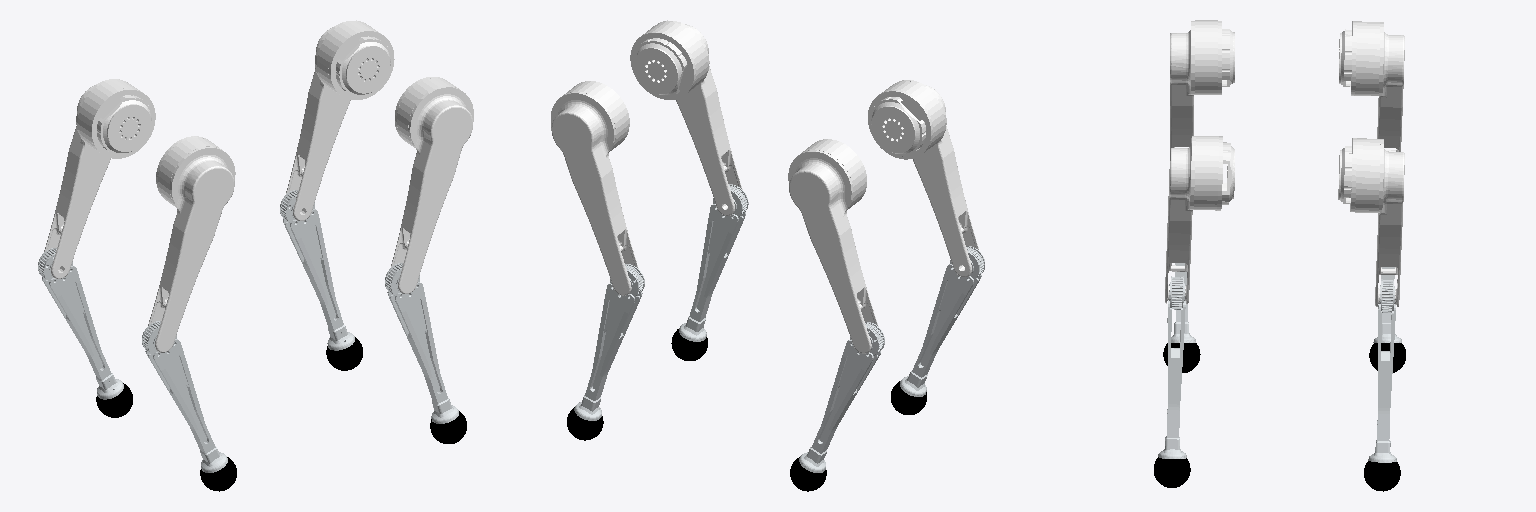
URDF robot description (xt_dog):
<?xml version="1.0" encoding="utf-8"?>
<!-- This URDF was automatically created by SolidWorks to URDF Exporter! Originally created by [author] ([email redacted]) 
     Commit Version: 1.6.0-4-g7f85cfe  Build Version: 1.6.7995.38578
     For more information, please see http://wiki.ros.org/sw_urdf_exporter -->
<robot
  name="xt_dog">
  <link
    name="base">
    <inertial>
      <origin
        xyz="-6.8387E-05 -0.00051279 0.062014"
        rpy="0 0 0" />
      <mass
        value="8.9114" />
      <inertia
        ixx="0.061528"
        ixy="6.16E-05"
        ixz="0.0002485"
        iyy="0.12748"
        iyz="7.84E-05"
        izz="0.15915" />
    </inertial>
    <visual>
      <origin
        xyz="0 0 0"
        rpy="0 0 0" />
      <geometry>
        <mesh
          filename="../meshes/base.STL" />
      </geometry>
      <material
        name="">
        <color
          rgba="0.89804 0.91765 0.92941 1" />
      </material>
    </visual>
    <collision>
      <origin
        xyz="0 0 0"
        rpy="0 0 0" />
      <geometry>
        <mesh
          filename="../meshes/base.STL" />
      </geometry>
    </collision>
  </link>
  <link
    name="FL_hip">
    <inertial>
      <origin
        xyz="-0.009071 -0.00066921 0.0030017"
        rpy="0 0 0" />
      <mass
        value="1.7307" />
      <inertia
        ixx="0.0022205"
        ixy="6.23E-05"
        ixz="-1.38E-05"
        iyy="0.0039266"
        iyz="-3.12E-05"
        izz="0.002753" />
    </inertial>
    <visual>
      <origin
        xyz="0 0 0"
        rpy="0 0 0" />
      <geometry>
        <mesh
          filename="../meshes/FL_hip.STL" />
      </geometry>
      <material
        name="">
        <color
          rgba="0.61176 0.65882 0.67059 1" />
      </material>
    </visual>
    <collision>
      <origin
        xyz="0 0 0"
        rpy="0 0 0" />
      <geometry>
        <mesh
          filename="../meshes/FL_hip.STL" />
      </geometry>
    </collision>
  </link>
  <joint
    name="FL_hip_joint"
    type="revolute">
    <origin
      xyz="0.22493 0.062028 0.058665"
      rpy="0 0 0" />
    <parent
      link="base" />
    <child
      link="FL_hip" />
    <axis
      xyz="1 0 0" />
    <limit
      lower="-0.7854 "
      upper="0.7854"
      effort="40"
      velocity="20" />
  </joint>
  <link
    name="FL_thigh">
    <inertial>
      <origin
        xyz="-0.0064856 0.0035106 -0.018791"
        rpy="0 0 0" />
      <mass
        value="2.5793" />
      <inertia
        ixx="0.010577"
        ixy="0.0005158"
        ixz="-0.0024329"
        iyy="0.01186"
        iyz="0.0014743"
        izz="0.0044128" />
    </inertial>
    <visual>
      <origin
        xyz="0 0 0"
        rpy="0 0 0" />
      <geometry>
        <mesh
          filename="../meshes/FL_thigh.STL" />
      </geometry>
      <material
        name="">
        <color
          rgba="1 1 1 1" />
      </material>
    </visual>
    <collision>
      <origin
        xyz="0 0 0"
        rpy="0 0 0" />
      <geometry>
        <mesh
          filename="../meshes/FL_thigh.STL" />
      </geometry>
    </collision>
  </link>
  <joint
    name="FL_thigh_joint"
    type="revolute">
    <origin
      xyz="-0.0009767 0.068078 0.0016177"
      rpy="0 0 0" />
    <parent
      link="FL_hip" />
    <child
      link="FL_thigh" />
    <axis
      xyz="0 1 0" />
    <limit
       lower="-1.8326"
      upper="1.8326"
      effort="40"
      velocity="20" />
  </joint>
  <link
    name="FL_calf">
    <inertial>
      <origin
        xyz="0.031152 -0.0031243 -0.10209"
        rpy="0 0 0" />
      <mass
        value="0.3664" />
      <inertia
        ixx="0.0027904"
        ixy="2.46E-05"
        ixz="0.0008267"
        iyy="0.0030728"
        iyz="-8.15E-05"
        izz="0.0003331" />
    </inertial>
    <visual>
      <origin
        xyz="0 0 0"
        rpy="0 0 0" />
      <geometry>
        <mesh
          filename="../meshes/FL_calf.STL" />
      </geometry>
      <material
        name="">
        <color
          rgba="0.89804 0.91765 0.92941 1" />
      </material>
    </visual>
    <collision>
      <origin
        xyz="0 0 0"
        rpy="0 0 0" />
      <geometry>
        <mesh
          filename="../meshes/FL_calf.STL" />
      </geometry>
    </collision>
  </link>
  <joint
    name="FL_calf_joint"
    type="revolute">
    <origin
      xyz="-0.088525 0.031884 -0.25614"
      rpy="0 0 0" />
    <parent
      link="FL_thigh" />
    <child
      link="FL_calf" />
    <axis
      xyz="0 1 0" />
    <limit
      lower="-1.8326"
      upper="0.5236"
      effort="40"
      velocity="20" />
  </joint>
  <link
    name="FL_foot">
    <inertial>
      <origin
        xyz="0 -2.2204E-16 -1.1102E-16"
        rpy="0 0 0" />
      <mass
        value="0.1315" />
      <inertia
        ixx="4.73E-05"
        ixy="0"
        ixz="0"
        iyy="4.73E-05"
        iyz="0"
        izz="4.73E-05" />
    </inertial>
    <visual>
      <origin
        xyz="0 0 0"
        rpy="0 0 0" />
      <geometry>
        <mesh
          filename="../meshes/FL_foot.STL" />
      </geometry>
      <material
        name="">
        <color
          rgba="0 0 0 1" />
      </material>
    </visual>
    <collision>
      <origin
        xyz="0 0 0"
        rpy="0 0 0" />
      <geometry>
        <mesh
          filename="../meshes/FL_foot.STL" />
      </geometry>
    </collision>
  </link>
  <joint
    name="FL_foot_joint"
    type="fixed"
    dont_collapse="true">
    <origin
      xyz="0.084015 -0.0082942 -0.27535"
      rpy="0 0 0" />
    <parent
      link="FL_calf" />
    <child
      link="FL_foot" />
    <axis
      xyz="0 0 0" />
  </joint>
  <link
    name="FR_hip">
    <inertial>
      <origin
        xyz="-0.007193 0.00085492 0.002813"
        rpy="0 0 0" />
      <mass
        value="1.7307" />
      <inertia
        ixx="0.0022388"
        ixy="-6.88E-05"
        ixz="2.83E-05"
        iyy="0.003903"
        iyz="-2.88E-05"
        izz="0.0027126" />
    </inertial>
    <visual>
      <origin
        xyz="0 0 0"
        rpy="0 0 0" />
      <geometry>
        <mesh
          filename="../meshes/FR_hip.STL" />
      </geometry>
      <material
        name="">
        <color
          rgba="0.61176 0.65882 0.67059 1" />
      </material>
    </visual>
    <collision>
      <origin
        xyz="0 0 0"
        rpy="0 0 0" />
      <geometry>
        <mesh
          filename="../meshes/FR_hip.STL" />
      </geometry>
    </collision>
  </link>
  <joint
    name="FR_hip_joint"
    type="revolute">
    <origin
      xyz="0.2225 -0.062529 0.05888"
      rpy="0 0 0" />
    <parent
      link="base" />
    <child
      link="FR_hip" />
    <axis
      xyz="1 0 0" />
    <limit
    lower="-0.7854 "
      upper="0.7854"
      effort="40"
      velocity="20" />
  </joint>
  <link
    name="FR_thigh">
    <inertial>
      <origin
        xyz="-0.0063846 -0.004616 -0.018585"
        rpy="0 0 0" />
      <mass
        value="2.5793" />
      <inertia
        ixx="0.010622"
        ixy="-0.0006479"
        ixz="-0.0023408"
        iyy="0.01166"
        iyz="-0.0019079"
        izz="0.004568" />
    </inertial>
    <visual>
      <origin
        xyz="0 0 0"
        rpy="0 0 0" />
      <geometry>
        <mesh
          filename="../meshes/FR_thigh.STL" />
      </geometry>
      <material
        name="">
        <color
          rgba="1 1 1 1" />
      </material>
    </visual>
    <collision>
      <origin
        xyz="0 0 0"
        rpy="0 0 0" />
      <geometry>
        <mesh
          filename="../meshes/FR_thigh.STL" />
      </geometry>
    </collision>
  </link>
  <joint
    name="FR_thigh_joint"
    type="revolute">
    <origin
      xyz="0.00095427 -0.067864 0.0056446"
      rpy="0 0 0" />
    <parent
      link="FR_hip" />
    <child
      link="FR_thigh" />
    <axis
      xyz="0 1 0" />
    <limit
      lower="-1.8326"
      upper="1.8326"
      effort="40"
      velocity="20" />
  </joint>
  <link
    name="FR_calf">
    <inertial>
      <origin
        xyz="0.030284 -0.0030805 -0.10195"
        rpy="0 0 0" />
      <mass
        value="0.3664" />
      <inertia
        ixx="0.0028129"
        ixy="2.38E-05"
        ixz="0.0008114"
        iyy="0.0030841"
        iyz="-8.11E-05"
        izz="0.0003219" />
    </inertial>
    <visual>
      <origin
        xyz="0 0 0"
        rpy="0 0 0" />
      <geometry>
        <mesh
          filename="../meshes/FR_calf.STL" />
      </geometry>
      <material
        name="">
        <color
          rgba="0.89804 0.91765 0.92941 1" />
      </material>
    </visual>
    <collision>
      <origin
        xyz="0 0 0"
        rpy="0 0 0" />
      <geometry>
        <mesh
          filename="../meshes/FR_calf.STL" />
      </geometry>
    </collision>
  </link>
  <joint
    name="FR_calf_joint"
    type="revolute">
    <origin
      xyz="-0.08723 -0.04698 -0.25425"
      rpy="0 0 0" />
    <parent
      link="FR_thigh" />
    <child
      link="FR_calf" />
    <axis
      xyz="0 1 0" />
    <limit
     lower="-1.8326"
      upper="0.5236"
      effort="40"
      velocity="20" />
  </joint>
  <link
    name="FR_foot">
    <inertial>
      <origin
        xyz="1.1102E-16 -1.1102E-16 0"
        rpy="0 0 0" />
      <mass
        value="0.1315" />
      <inertia
        ixx="4.73E-05"
        ixy="0"
        ixz="0"
        iyy="4.73E-05"
        iyz="0"
        izz="4.73E-05" />
    </inertial>
    <visual>
      <origin
        xyz="0 0 0"
        rpy="0 0 0" />
      <geometry>
        <mesh
          filename="../meshes/FR_foot.STL" />
      </geometry>
      <material
        name="">
        <color
          rgba="0 0 0 1" />
      </material>
    </visual>
    <collision>
      <origin
        xyz="0 0 0"
        rpy="0 0 0" />
      <geometry>
        <mesh
          filename="../meshes/FR_foot.STL" />
      </geometry>
    </collision>
  </link>
  <joint
    name="FR_foot_joint"
    type="fixed"
    dont_collapse="true">
    <origin
      xyz="0.081967 -0.0081882 -0.27597"
      rpy="0 0 0" />
    <parent
      link="FR_calf" />
    <child
      link="FR_foot" />
    <axis
      xyz="0 0 0" />
  </joint>
  <link
    name="RL_hip">
    <inertial>
      <origin
        xyz="0.0087401 -0.00085607 -0.0029571"
        rpy="0 0 0" />
      <mass
        value="1.7307" />
      <inertia
        ixx="0.002229"
        ixy="-6.16E-05"
        ixz="-1.05E-05"
        iyy="0.0039131"
        iyz="-3.55E-05"
        izz="0.0027333" />
    </inertial>
    <visual>
      <origin
        xyz="0 0 0"
        rpy="0 0 0" />
      <geometry>
        <mesh
          filename="../meshes/RL_hip.STL" />
      </geometry>
      <material
        name="">
        <color
          rgba="0.61176 0.65882 0.67059 1" />
      </material>
    </visual>
    <collision>
      <origin
        xyz="0 0 0"
        rpy="0 0 0" />
      <geometry>
        <mesh
          filename="../meshes/RL_hip.STL" />
      </geometry>
    </collision>
  </link>
  <joint
    name="RL_hip_joint"
    type="revolute">
    <origin
      xyz="-0.22443 0.062366 0.065266"
      rpy="0 0 0" />
    <parent
      link="base" />
    <child
      link="RL_hip" />
    <axis
      xyz="1 0 0" />
    <limit
     lower="-0.7854 "
      upper="0.7854"
      effort="40"
      velocity="20" />
  </joint>
  <link
    name="RL_thigh">
    <inertial>
      <origin
        xyz="-0.0068764 0.0035707 -0.01864"
        rpy="0 0 0" />
      <mass
        value="2.5793" />
      <inertia
        ixx="0.010473"
        ixy="0.0005551"
        ixz="-0.0025578"
        iyy="0.011851"
        iyz="0.0014867"
        izz="0.0045259" />
    </inertial>
    <visual>
      <origin
        xyz="0 0 0"
        rpy="0 0 0" />
      <geometry>
        <mesh
          filename="../meshes/RL_thigh.STL" />
      </geometry>
      <material
        name="">
        <color
          rgba="1 1 1 1" />
      </material>
    </visual>
    <collision>
      <origin
        xyz="0 0 0"
        rpy="0 0 0" />
      <geometry>
        <mesh
          filename="../meshes/RL_thigh.STL" />
      </geometry>
    </collision>
  </link>
  <joint
    name="RL_thigh_joint"
    type="revolute">
    <origin
      xyz="0.0009767 0.067878 -0.0054656"
      rpy="0 0 0" />
    <parent
      link="RL_hip" />
    <child
      link="RL_thigh" />
    <axis
      xyz="0 1 0" />
    <limit
       lower="-1.8326"
      upper="1.8326"
      effort="40"
      velocity="20" />
  </joint>
  <link
    name="RL_calf">
    <inertial>
      <origin
        xyz="0.041192 -8.1501E-05 -0.098523"
        rpy="0 0 0" />
      <mass
        value="0.3664" />
      <inertia
        ixx="0.0026016"
        ixy="-1E-07"
        ixz="0.0010549"
        iyy="0.0030752"
        iyz="2E-07"
        izz="0.0005195" />
    </inertial>
    <visual>
      <origin
        xyz="0 0 0"
        rpy="0 0 0" />
      <geometry>
        <mesh
          filename="../meshes/RL_calf.STL" />
      </geometry>
      <material
        name="">
        <color
          rgba="0.89804 0.91765 0.92941 1" />
      </material>
    </visual>
    <collision>
      <origin
        xyz="0 0 0"
        rpy="0 0 0" />
      <geometry>
        <mesh
          filename="../meshes/RL_calf.STL" />
      </geometry>
    </collision>
  </link>
  <joint
    name="RL_calf_joint"
    type="revolute">
    <origin
      xyz="-0.093862 0.032703 -0.25413"
      rpy="0 0 0" />
    <parent
      link="RL_thigh" />
    <child
      link="RL_calf" />
    <axis
      xyz="0 1 0" />
    <limit
     lower="-1.8326"
      upper="0.5236"
      effort="40"
      velocity="20" />
  </joint>
  <link
    name="RL_foot">
    <inertial>
      <origin
        xyz="-1.1102E-16 -1.1102E-16 0"
        rpy="0 0 0" />
      <mass
        value="0.1315" />
      <inertia
        ixx="4.73E-05"
        ixy="0"
        ixz="0"
        iyy="4.73E-05"
        iyz="0"
        izz="4.73E-05" />
    </inertial>
    <visual>
      <origin
        xyz="0 0 0"
        rpy="0 0 0" />
      <geometry>
        <mesh
          filename="../meshes/RL_foot.STL" />
      </geometry>
      <material
        name="">
        <color
          rgba="0 0 0 1" />
      </material>
    </visual>
    <collision>
      <origin
        xyz="0 0 0"
        rpy="0 0 0" />
      <geometry>
        <mesh
          filename="../meshes/RL_foot.STL" />
      </geometry>
    </collision>
  </link>
  <joint
    name="RL_foot_joint"
    type="fixed"
    dont_collapse="true">
    <origin
      xyz="0.11109 -8.7868E-05 -0.26571"
      rpy="0 0 0" />
    <parent
      link="RL_calf" />
    <child
      link="RL_foot" />
    <axis
      xyz="0 0 0" />
  </joint>
  <link
    name="RR_hip">
    <inertial>
      <origin
        xyz="0.0071803 0.00077627 -0.0028368"
        rpy="0 0 0" />
      <mass
        value="1.7307" />
      <inertia
        ixx="0.0022392"
        ixy="6.92E-05"
        ixz="2.63E-05"
        iyy="0.0039035"
        iyz="-6E-06"
        izz="0.0027115" />
    </inertial>
    <visual>
      <origin
        xyz="0 0 0"
        rpy="0 0 0" />
      <geometry>
        <mesh
          filename="../meshes/RR_hip.STL" />
      </geometry>
      <material
        name="">
        <color
          rgba="0.61176 0.65882 0.67059 1" />
      </material>
    </visual>
    <collision>
      <origin
        xyz="0 0 0"
        rpy="0 0 0" />
      <geometry>
        <mesh
          filename="../meshes/RR_hip.STL" />
      </geometry>
    </collision>
  </link>
  <joint
    name="RR_hip_joint"
    type="revolute">
    <origin
      xyz="-0.2225 -0.062221 0.065531"
      rpy="0 0 0" />
    <parent
      link="base" />
    <child
      link="RR_hip" />
    <axis
      xyz="1 0 0" />
    <limit
     lower="-0.7854 "
      upper="0.7854"
      effort="40"
      velocity="20" />
  </joint>
  <link
    name="RR_thigh">
    <inertial>
      <origin
        xyz="-0.0066684 -0.004061 -0.018591"
        rpy="0 0 0" />
      <mass
        value="2.5793" />
      <inertia
        ixx="0.010524"
        ixy="-0.0006048"
        ixz="-0.0024767"
        iyy="0.011762"
        iyz="-0.0016862"
        izz="0.004556" />
    </inertial>
    <visual>
      <origin
        xyz="0 0 0"
        rpy="0 0 0" />
      <geometry>
        <mesh
          filename="../meshes/RR_thigh.STL" />
      </geometry>
      <material
        name="">
        <color
          rgba="1 1 1 1" />
      </material>
    </visual>
    <collision>
      <origin
        xyz="0 0 0"
        rpy="0 0 0" />
      <geometry>
        <mesh
          filename="../meshes/RR_thigh.STL" />
      </geometry>
    </collision>
  </link>
  <joint
    name="RR_thigh_joint"
    type="revolute">
    <origin
      xyz="-0.00095427 -0.068 -0.003651"
      rpy="0 0 0" />
    <parent
      link="RR_hip" />
    <child
      link="RR_thigh" />
    <axis
      xyz="0 1 0" />
    <limit
       lower="-1.8326"
      upper="1.8326"
      effort="40"
      velocity="20" />
  </joint>
  <link
    name="RR_calf">
    <inertial>
      <origin
        xyz="0.041008 8.7844E-05 -0.098181"
        rpy="0 0 0" />
      <mass
        value="0.3664" />
      <inertia
        ixx="0.002612"
        ixy="0"
        ixz="0.0010581"
        iyy="0.0030865"
        iyz="0"
        izz="0.0005204" />
    </inertial>
    <visual>
      <origin
        xyz="0 0 0"
        rpy="0 0 0" />
      <geometry>
        <mesh
          filename="../meshes/RR_calf.STL" />
      </geometry>
      <material
        name="">
        <color
          rgba="0.89804 0.91765 0.92941 1" />
      </material>
    </visual>
    <collision>
      <origin
        xyz="0 0 0"
        rpy="0 0 0" />
      <geometry>
        <mesh
          filename="../meshes/RR_calf.STL" />
      </geometry>
    </collision>
  </link>
  <joint
    name="RR_calf_joint"
    type="revolute">
    <origin
      xyz="-0.091121 -0.0395 -0.25416"
      rpy="0 0 0" />
    <parent
      link="RR_thigh" />
    <child
      link="RR_calf" />
    <axis
      xyz="0 1 0" />
    <limit
    lower="-1.8326"
      upper="0.5236"
      effort="40"
      velocity="20" />
  </joint>
  <link
    name="RR_foot">
    <inertial>
      <origin
        xyz="0 0 0"
        rpy="0 0 0" />
      <mass
        value="0.1315" />
      <inertia
        ixx="4.73E-05"
        ixy="0"
        ixz="0"
        iyy="4.73E-05"
        iyz="0"
        izz="4.73E-05" />
    </inertial>
    <visual>
      <origin
        xyz="0 0 0"
        rpy="0 0 0" />
      <geometry>
        <mesh
          filename="../meshes/RR_foot.STL" />
      </geometry>
      <material
        name="">
        <color
          rgba="0 0 0 1" />
      </material>
    </visual>
    <collision>
      <origin
        xyz="0 0 0"
        rpy="0 0 0" />
      <geometry>
        <mesh
          filename="../meshes/RR_foot.STL" />
      </geometry>
    </collision>
  </link>
  <joint
    name="RR_foot_joint"
    type="fixed"
    dont_collapse="true">
    <origin
      xyz="0.111 8.7868E-05 -0.26575"
      rpy="0 0 0" />
    <parent
      link="RR_calf" />
    <child
      link="RR_foot" />
    <axis
      xyz="0 0 0" />
  </joint>
</robot>

--- Render facts (derived) ---
3 views of the same robot in one strip: view 1: azimuth 30°, elevation 25°; view 2: azimuth 150°, elevation 25°; view 3: azimuth 270°, elevation 25° (orthographic).
Model xt_dog with 17 links and 16 joints (12 revolute, 4 fixed), rooted at base, posed every joint at zero.
Visible links, largest first — view 1: RR_thigh, FR_thigh, RL_thigh, FL_thigh, FR_calf, FL_calf, RL_calf, RR_calf, FL_foot, FR_foot, RL_foot, RR_foot; view 2: RL_thigh, FL_thigh, RR_thigh, FR_thigh, FR_calf, FL_calf, RR_calf, RL_calf, FL_foot, RL_foot, FR_foot, RR_foot; view 3: FL_thigh, FR_thigh, RL_thigh, RR_thigh, FL_calf, FR_calf, FR_foot, FL_foot, RL_foot, RR_foot.
Boxes of the visible links, bbox=[...] form: RR_thigh: bbox=[148, 136, 235, 352]; FR_thigh: bbox=[391, 77, 473, 293]; RL_thigh: bbox=[44, 79, 155, 278]; FL_thigh: bbox=[286, 20, 394, 220]; FR_calf: bbox=[385, 263, 458, 423]; FL_calf: bbox=[280, 190, 354, 350]; RL_calf: bbox=[38, 248, 123, 399]; RR_calf: bbox=[142, 321, 227, 472]; FL_foot: bbox=[326, 337, 362, 370]; FR_foot: bbox=[430, 411, 466, 443]; RL_foot: bbox=[96, 383, 132, 417]; RR_foot: bbox=[200, 457, 236, 491]; RL_thigh: bbox=[788, 139, 878, 353]; FL_thigh: bbox=[551, 81, 638, 295]; RR_thigh: bbox=[868, 80, 978, 276]; FR_thigh: bbox=[630, 20, 742, 215]; FR_calf: bbox=[679, 184, 748, 341]; FL_calf: bbox=[574, 264, 644, 420]; RR_calf: bbox=[900, 246, 984, 396]; RL_calf: bbox=[799, 322, 884, 472]; FL_foot: bbox=[567, 407, 603, 440]; RL_foot: bbox=[790, 457, 826, 491]; FR_foot: bbox=[671, 329, 707, 360]; RR_foot: bbox=[891, 381, 926, 414]; FL_thigh: bbox=[1338, 138, 1404, 306]; FR_thigh: bbox=[1165, 136, 1234, 303]; RL_thigh: bbox=[1339, 21, 1404, 151]; RR_thigh: bbox=[1170, 20, 1234, 148]; FL_calf: bbox=[1368, 279, 1396, 462]; FR_calf: bbox=[1158, 276, 1186, 458]; FR_foot: bbox=[1154, 457, 1190, 487]; FL_foot: bbox=[1364, 461, 1400, 491]; RL_foot: bbox=[1369, 343, 1405, 372]; RR_foot: bbox=[1163, 343, 1200, 372].
Size in the robot's own frame: 0.6284 by 0.4084 by 0.6262 metres.
12 mesh visuals loaded from 17 distinct referenced files (12 binary STL); not drawn: 5 (reference not matched to a file when rendering).